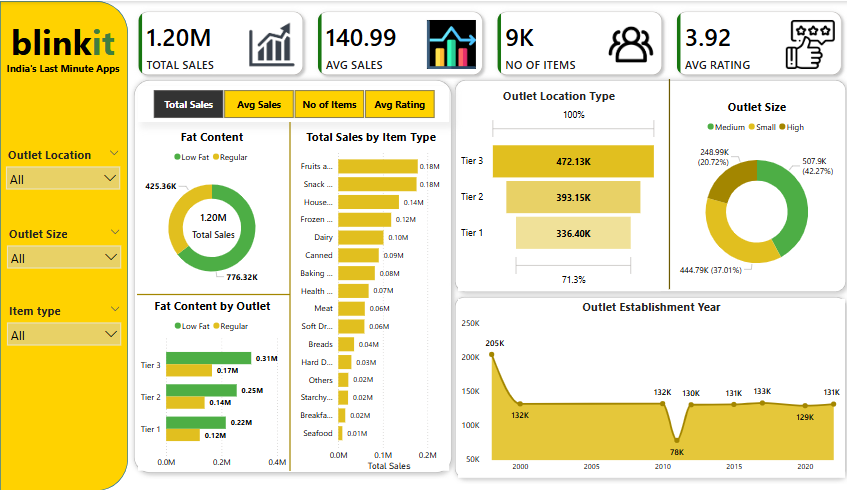

The page's visual inventory and layout, read from the dashboard file:
{"tool":"powerbi","page":{"name":"Page 1","canvas":[1400,800],"ordinal":0},"visuals":[{"type":"shape","box":[9.8,0,209,800],"z":0},{"type":"textbox","box":[9.8,22.9,205.7,94.7],"z":1000},{"type":"textbox","box":[9.8,94.7,205.7,44.1],"z":2000},{"type":"cardVisual","fields":{"Data":["BlinkIT Grocery Data.Total Sales","BlinkIT Grocery Data.Avg Sales","BlinkIT Grocery Data.No of Items","BlinkIT Grocery Data.Avg Rating"]},"box":[218.8,0,1182,138.8],"z":3000},{"type":"shape","box":[218.8,119.2,538.8,661.2],"z":4000},{"type":"shape","box":[742.9,119.2,658,365.7],"z":5000},{"type":"shape","box":[742.9,473.5,658,315.1],"z":6000},{"type":"areaChart","title":"Outlet Establishment Year","fields":{"Y":["BlinkIT Grocery Data.Total Sales"],"Category":["BlinkIT Grocery Data.Outlet Establishment Year"]},"box":[757.6,486.5,631.8,292.2],"z":7000},{"type":"donutChart","title":"Outlet Size","fields":{"Category":["BlinkIT Grocery Data.Outlet Size"],"Y":["BlinkIT Grocery Data.Total Sales"]},"box":[1102,151.8,287.3,321.6],"z":8000},{"type":"donutChart","title":"Fat Content","fields":{"Y":["BlinkIT Grocery Data.Total Sales"],"Category":["BlinkIT Grocery Data.Item Fat Content"]},"box":[233.5,209,244.9,264.5],"z":9000},{"type":"clusteredBarChart","title":"Fat Content by Outlet","fields":{"Y":["BlinkIT Grocery Data.Total Sales"],"Category":["BlinkIT Grocery Data.Outlet Location Type"],"Series":["BlinkIT Grocery Data.Item Fat Content"]},"box":[235.1,484.9,243.3,282.4],"z":10000},{"type":"clusteredBarChart","fields":{"Y":["BlinkIT Grocery Data.Total Sales"],"Category":["BlinkIT Grocery Data.Item Type"]},"box":[488.2,209,254.7,558.4],"z":11000},{"type":"funnel","title":"Outlet Location Type","fields":{"Category":["BlinkIT Grocery Data.Outlet Location Type"],"Y":["BlinkIT Grocery Data.Total Sales"]},"box":[757.6,138.8,329.8,334.7],"z":12000},{"type":"slicer","fields":{"Values":["Metrics.Metrics"]},"box":[235.1,138.8,507.8,58.8],"z":13000},{"type":"shape","box":[1074.3,127.3,57.1,344],"z":14000},{"type":"shape","box":[478.4,197.6,9.8,569.8],"z":15000},{"type":"shape","box":[233.5,471.8,249.8,14.7],"z":16000},{"type":"cardVisual","fields":{"Data":["BlinkIT Grocery Data.Total Sales"]},"box":[303.7,324.9,109.4,75.1],"z":16001},{"type":"slicer","fields":{"Values":["BlinkIT Grocery Data.Outlet Location Type"]},"box":[9.8,233.5,205.7,91.4],"z":16002},{"type":"slicer","fields":{"Values":["BlinkIT Grocery Data.Outlet Size"]},"box":[11.4,362.4,205.7,91.4],"z":16003},{"type":"slicer","fields":{"Values":["BlinkIT Grocery Data.Item Type"]},"box":[11.4,488.2,205.7,91.4],"z":16004}]}

Visuals, with their boxes in screenshot pixels (x1, y1, x2, y2), scaled from the page's 1400x800 canvas onto the 847x490 screenshot:
shape: x1=6 y1=0 x2=132 y2=489
textbox: x1=6 y1=14 x2=130 y2=72
textbox: x1=6 y1=58 x2=130 y2=85
cardVisual - BlinkIT Grocery Data.Total Sales x BlinkIT Grocery Data.Avg Sales: x1=132 y1=0 x2=846 y2=85
shape: x1=132 y1=73 x2=458 y2=478
shape: x1=449 y1=73 x2=846 y2=297
shape: x1=449 y1=290 x2=846 y2=483
"Outlet Establishment Year" areaChart: x1=458 y1=298 x2=841 y2=477
"Outlet Size" donutChart: x1=667 y1=93 x2=841 y2=290
"Fat Content" donutChart: x1=141 y1=128 x2=289 y2=290
"Fat Content by Outlet" clusteredBarChart: x1=142 y1=297 x2=289 y2=470
clusteredBarChart - BlinkIT Grocery Data.Total Sales x BlinkIT Grocery Data.Item Type: x1=295 y1=128 x2=449 y2=470
"Outlet Location Type" funnel: x1=458 y1=85 x2=658 y2=290
slicer - Metrics.Metrics: x1=142 y1=85 x2=449 y2=121
shape: x1=650 y1=78 x2=684 y2=289
shape: x1=289 y1=121 x2=295 y2=470
shape: x1=141 y1=289 x2=292 y2=298
cardVisual - BlinkIT Grocery Data.Total Sales: x1=184 y1=199 x2=250 y2=245
slicer - BlinkIT Grocery Data.Outlet Location Type: x1=6 y1=143 x2=130 y2=199
slicer - BlinkIT Grocery Data.Outlet Size: x1=7 y1=222 x2=131 y2=278
slicer - BlinkIT Grocery Data.Item Type: x1=7 y1=299 x2=131 y2=355
